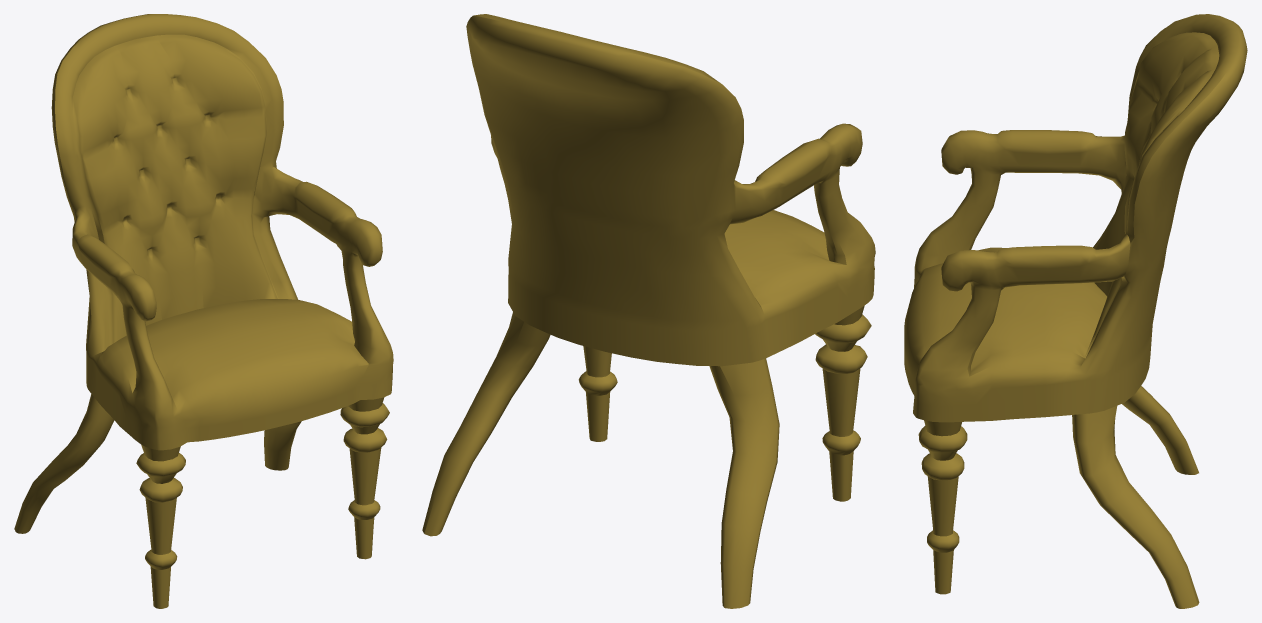
File: Chair.fbx
The picture shows the model from 3 angles, left to right: view 1: azimuth 30°, elevation 25°; view 2: azimuth 150°, elevation 25°; view 3: azimuth 270°, elevation 25°; orthographic projection. The views are drawn at different scales.
Visible parts, largest first — view 1: Chair1; view 2: Chair1; view 3: Chair1.
Part boxes in pixels (box(x1,y1,x2,y2)): Chair1: box(14, 14, 393, 608); Chair1: box(422, 14, 875, 608); Chair1: box(904, 14, 1247, 608).
Size of the model in its own units: 636 by 1035 by 647.
